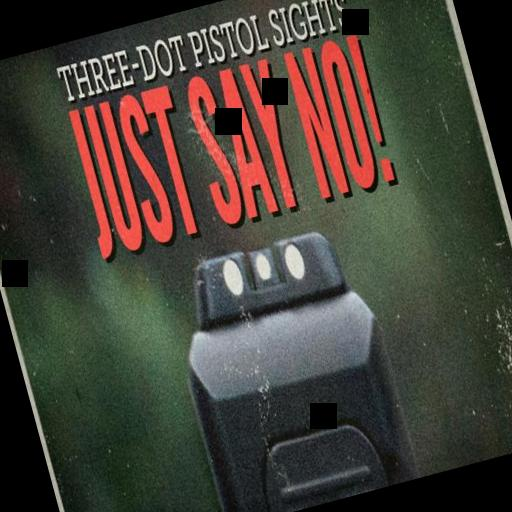Handgun: (155, 214, 419, 512)
